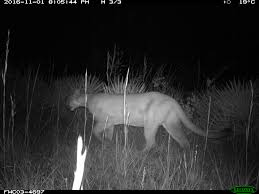mountain lion: (57, 82, 217, 150)
